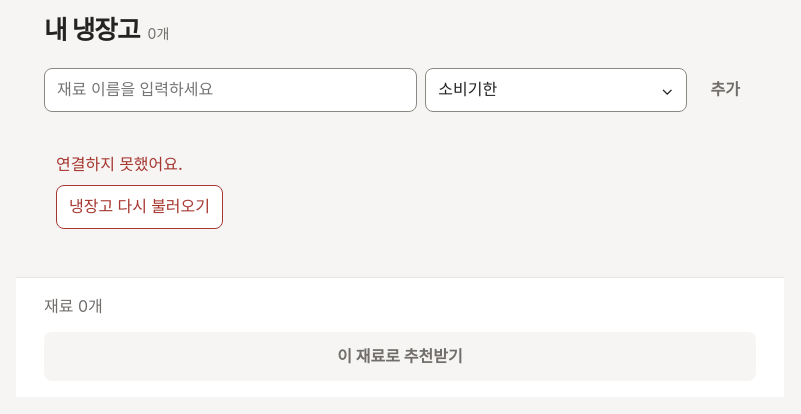
Test case: 냉장고 화면 › 조회 실패를 빈 냉장고로 안내하지 않고 다시 불러올 수 있다
This screenshot has width=801, height=414.
Check: the message "연결하지 못했어요." is shown, box x1=56 y1=154 x2=183 y2=174
What coordinates should you click on to do the following:
click the button "냉장고 다시 불러오기"
I would click on:
 (140, 207)
Its box is x1=56 y1=185 x2=223 y2=229.
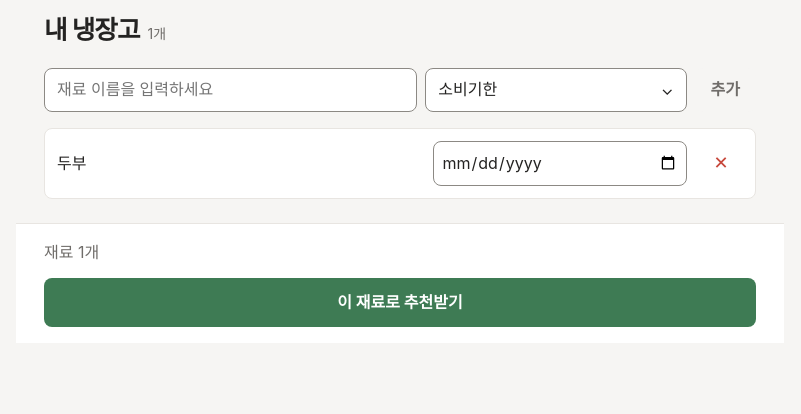
Check: the text "두부" is shown, box x1=57 y1=152 x2=86 y2=172
